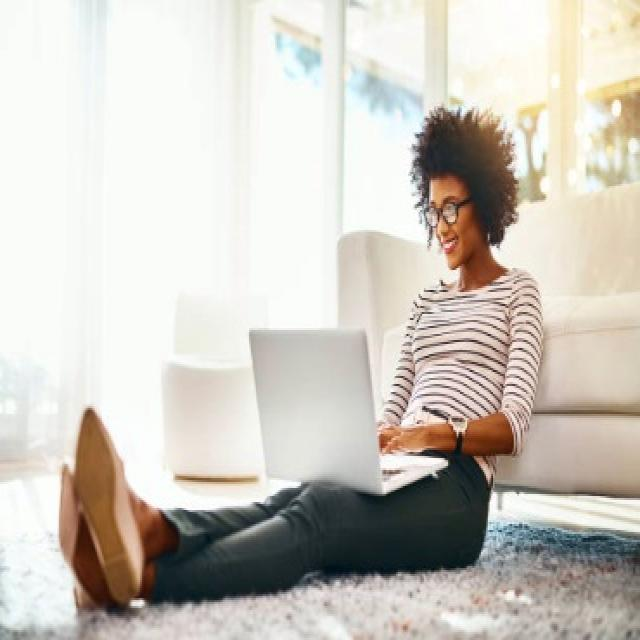adult: (64, 100, 546, 604)
